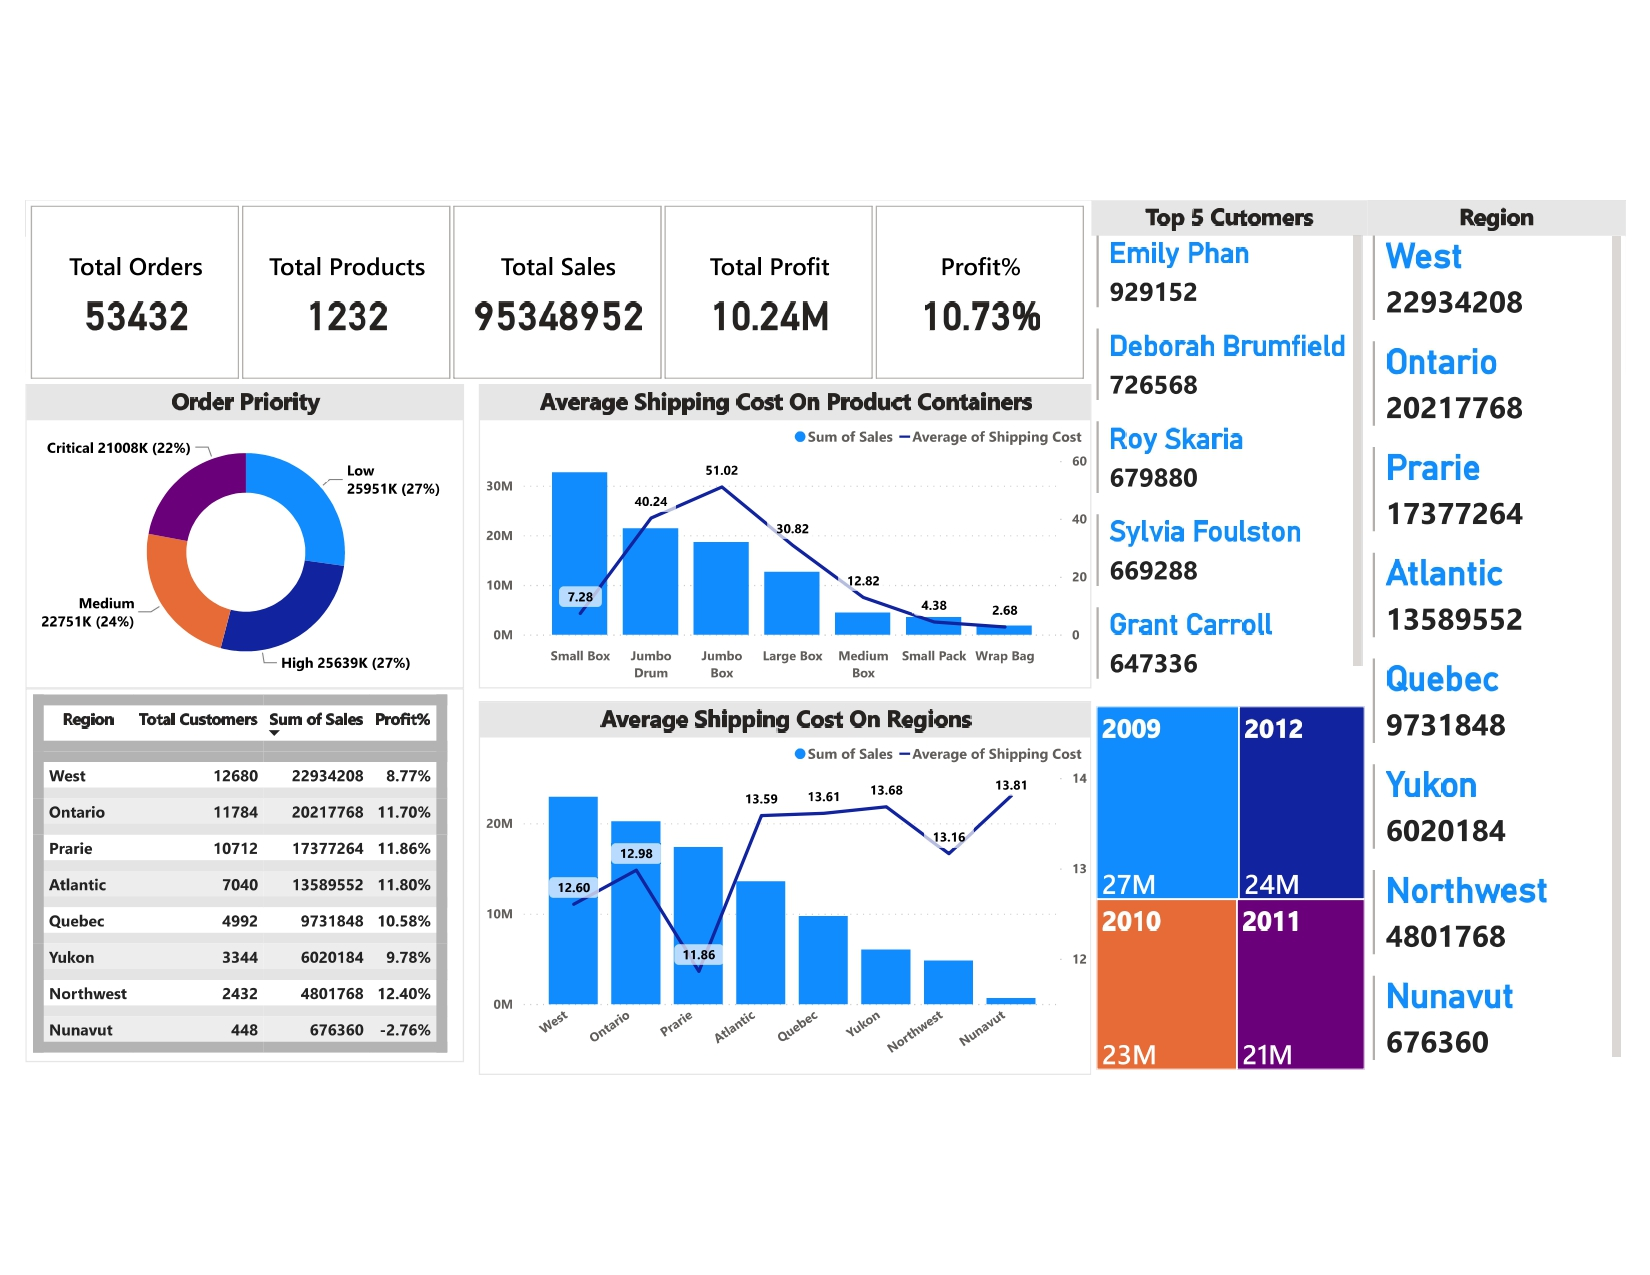

Layout of this report page (visuals, bound fields, positions):
{"tool":"powerbi","page":{"name":"Page 2","canvas":[1500,820],"ordinal":1},"visuals":[{"type":"multiRowCard","title":"Region","fields":{"Values":["Sales_Data.Region","Sum(Sales_Data.Sales)"]},"box":[1258.3,0,241.7,819.3],"z":0},{"type":"multiRowCard","title":"Top 5 Cutomers","fields":{"Values":["Sales_Data.Customer Name","Sum(Sales_Data.Sales)"]},"box":[998.5,0,259.6,457.1],"z":1000},{"type":"donutChart","title":"Order Priority","fields":{"Y":["Sum(Sales_Data.Sales)"],"Category":["Sales_Data.Order Priority"]},"box":[0,172.4,410.5,284.4],"z":2000},{"type":"lineStackedColumnComboChart","title":"Average Shipping Cost On Product Containers","fields":{"Category":["Sales_Data.Product Container"],"Y":["Sum(Sales_Data.Sales)"],"Y2":["Avg(Sales_Data.Shipping Cost)"]},"box":[424.8,172.4,574.1,284.4],"z":3000},{"type":"cardVisual","fields":{"Data":["CountNonNull(Sales_Data.Order ID)","Count(Sales_Data.Product Name)","Sum(Sales_Data.Sales)","Sum(Sales_Data.Profit)","Sales_Data.Profit%"]},"box":[0,0,998.8,172.4],"z":4000},{"type":"lineStackedColumnComboChart","title":"Average Shipping Cost On Regions","fields":{"Y":["Sum(Sales_Data.Sales)"],"Y2":["Avg(Sales_Data.Shipping Cost)"],"Category":["Sales_Data.Region"]},"box":[424.8,469.2,574.1,350.1],"z":5000},{"type":"tableEx","title":"Average Shipping Cost On Regions","fields":{"Values":["Sales_Data.Region","Sales_Data.Customer Name","Sum(Sales_Data.Sales)","Sales_Data.Profit%"]},"box":[0,456.8,410.5,350.1],"z":6000},{"type":"treemap","title":"Top 5 Cutomers","fields":{"Values":["Sum(Sales_Data.Sales)"],"Group":["Sales_Data.Year"]},"box":[998.8,469.2,261.3,350.1],"z":7000}]}

Visuals, with their boxes on the page's 1500x820 design canvas (x1, y1, x2, y2). These are canvas units, not pixel positions in the 1650x1275 screenshot, which may show the page scaled, cropped or inside an application window:
"Region" multiRowCard: 1258 0 1500 819
"Top 5 Cutomers" multiRowCard: 998 0 1258 457
"Order Priority" donutChart: 0 172 410 457
"Average Shipping Cost On Product Containers" lineStackedColumnComboChart: 425 172 999 457
cardVisual - CountNonNull(Sales_Data.Order ID) x Count(Sales_Data.Product Name): 0 0 999 172
"Average Shipping Cost On Regions" lineStackedColumnComboChart: 425 469 999 819
"Average Shipping Cost On Regions" tableEx: 0 457 410 807
"Top 5 Cutomers" treemap: 999 469 1260 819
